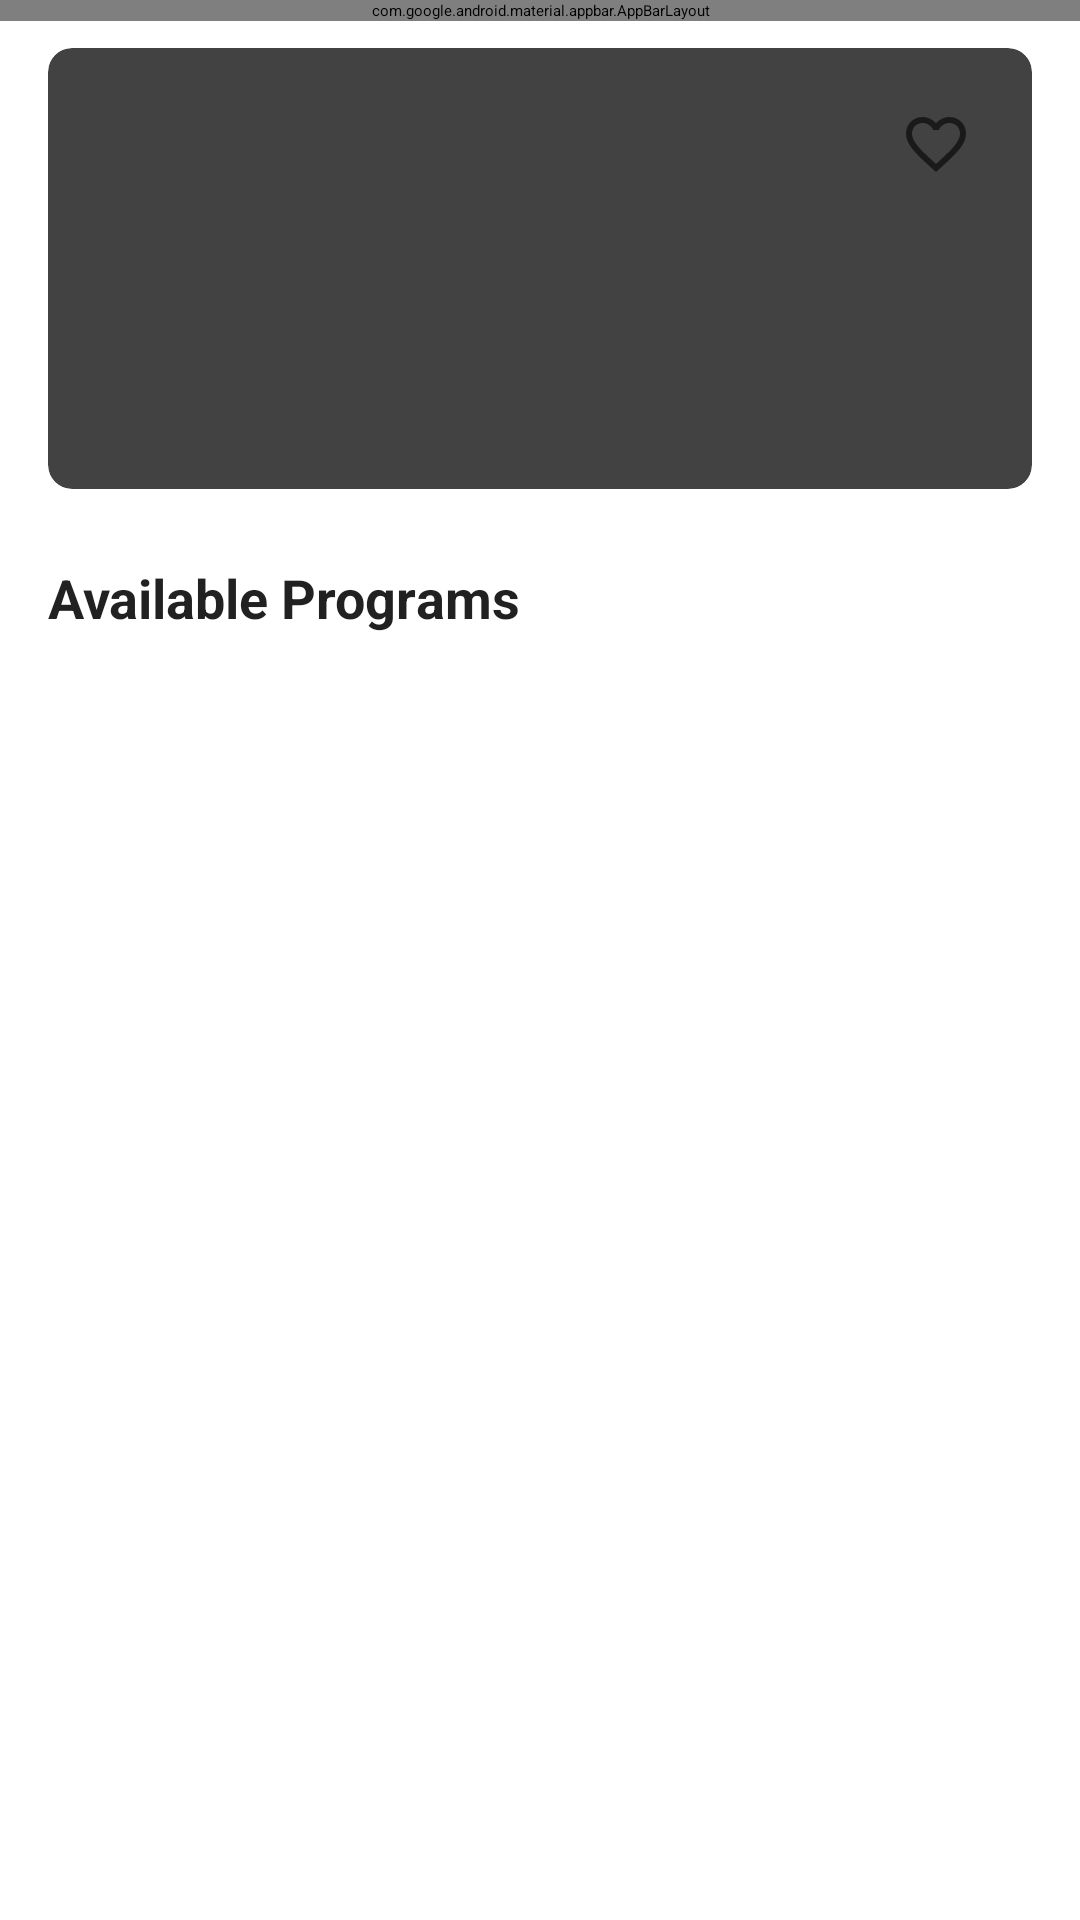

Locate icon controls on the screen. Image size 1080 × 1920, boxes as rect(x1, y1, x2, y2).
Add to dream list: rect(906, 117, 966, 172)
